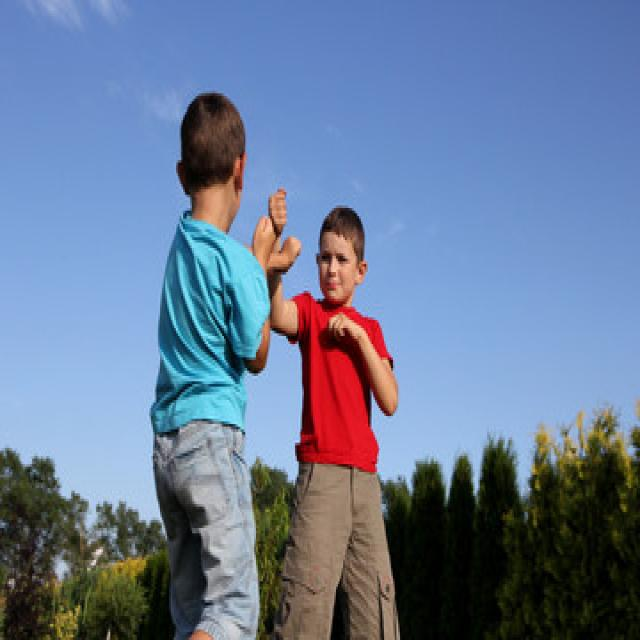fight: (136, 72, 403, 514)
